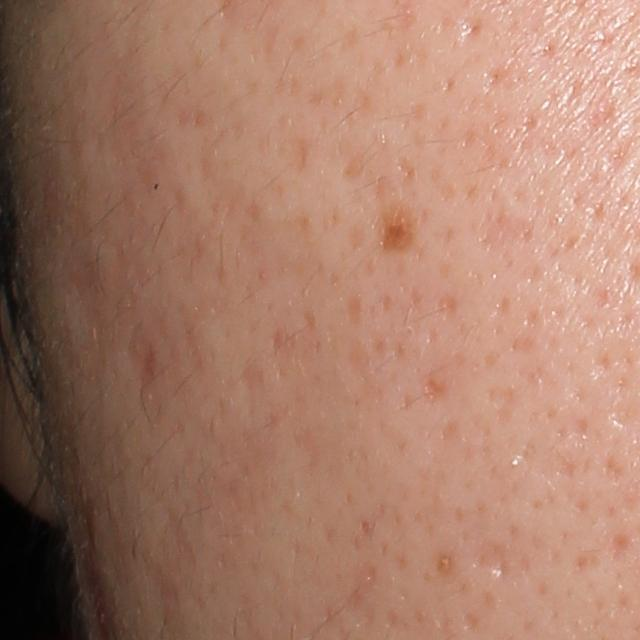atrophic_scar: (467, 538, 512, 580), (457, 16, 484, 40)
